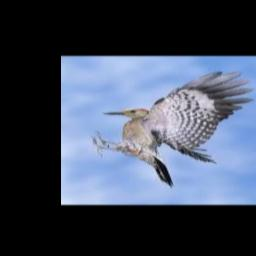Woodpecker: (90, 72, 254, 187)
